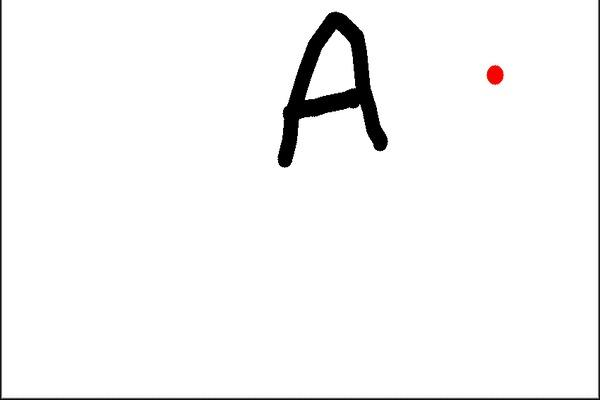A: (264, 5, 391, 174)
